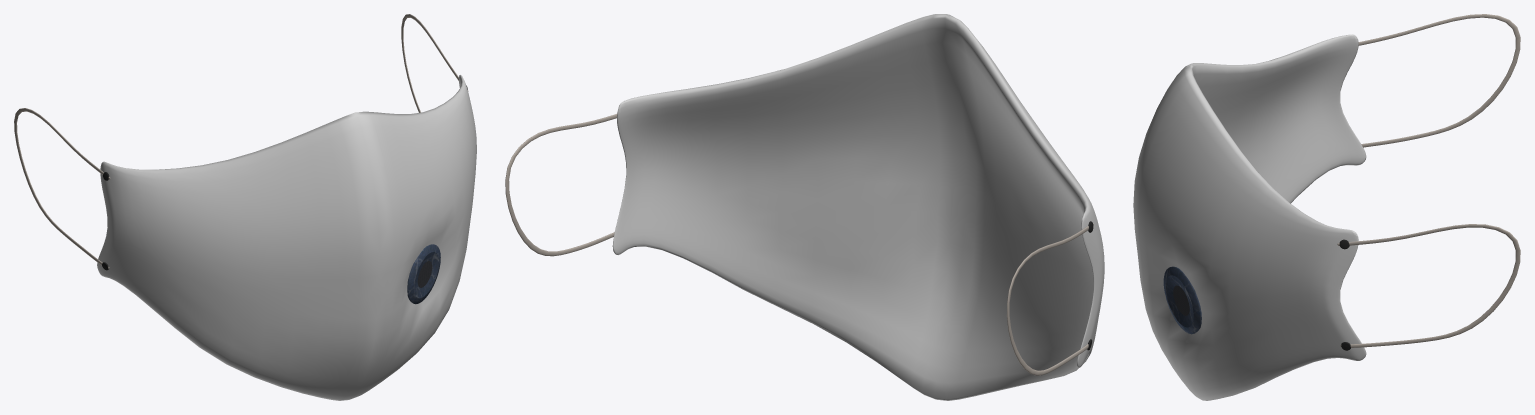
The picture shows the model from 3 angles, left to right: view 1: azimuth 30°, elevation 25°; view 2: azimuth 150°, elevation 25°; view 3: azimuth 270°, elevation 25°; orthographic projection. The views are drawn at different scales.
Visible parts, largest first — view 1: Mask, Leam, Filter; view 2: Mask, Leam; view 3: Mask, Leam, Filter.
Part boxes in pixels (left/top/right/bottom): Mask: left=97, top=75, right=476, bottom=400; Leam: left=14, top=14, right=468, bottom=268; Filter: left=407, top=244, right=440, bottom=304; Mask: left=612, top=14, right=1104, bottom=400; Leam: left=505, top=114, right=1093, bottom=375; Mask: left=1133, top=34, right=1366, bottom=400; Leam: left=1337, top=14, right=1520, bottom=347; Filter: left=1163, top=266, right=1201, bottom=334.
Bounding box in the file's own units: 2 × 1.44 × 1.53.
